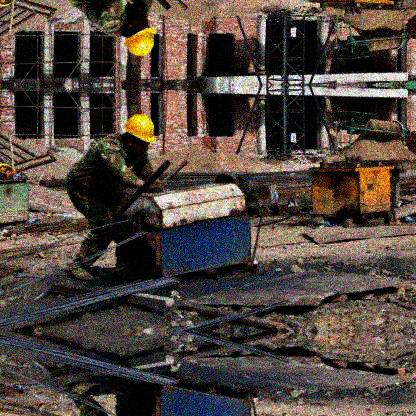helmet: (123, 109, 158, 161), (122, 14, 160, 59)
